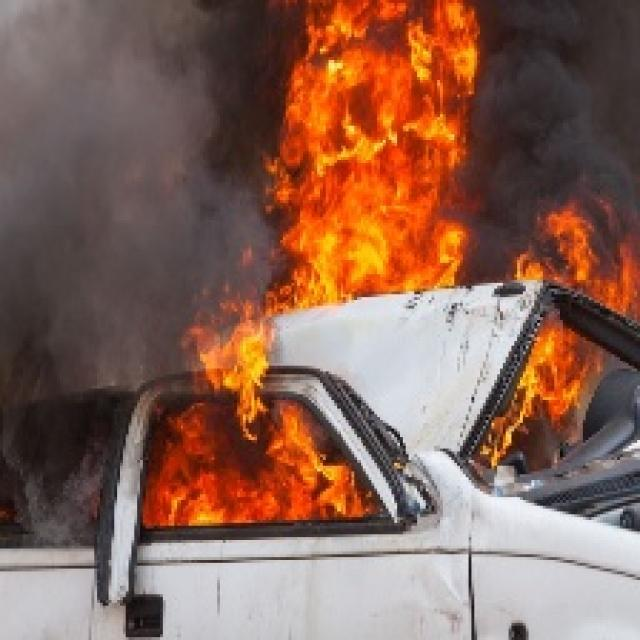Fire: (265, 0, 476, 303), (142, 398, 364, 527), (492, 322, 600, 449), (516, 206, 640, 302), (178, 308, 274, 395)
Smoke: (0, 0, 263, 300), (474, 0, 637, 203)
